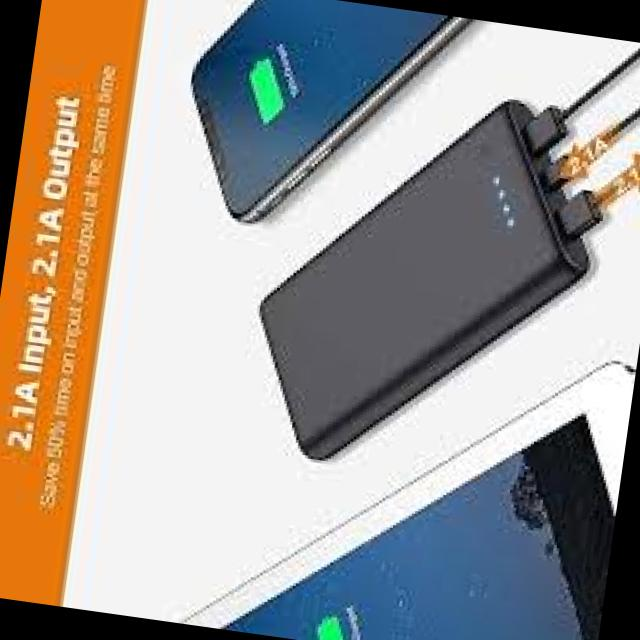portable-charger: (235, 66, 613, 498)
